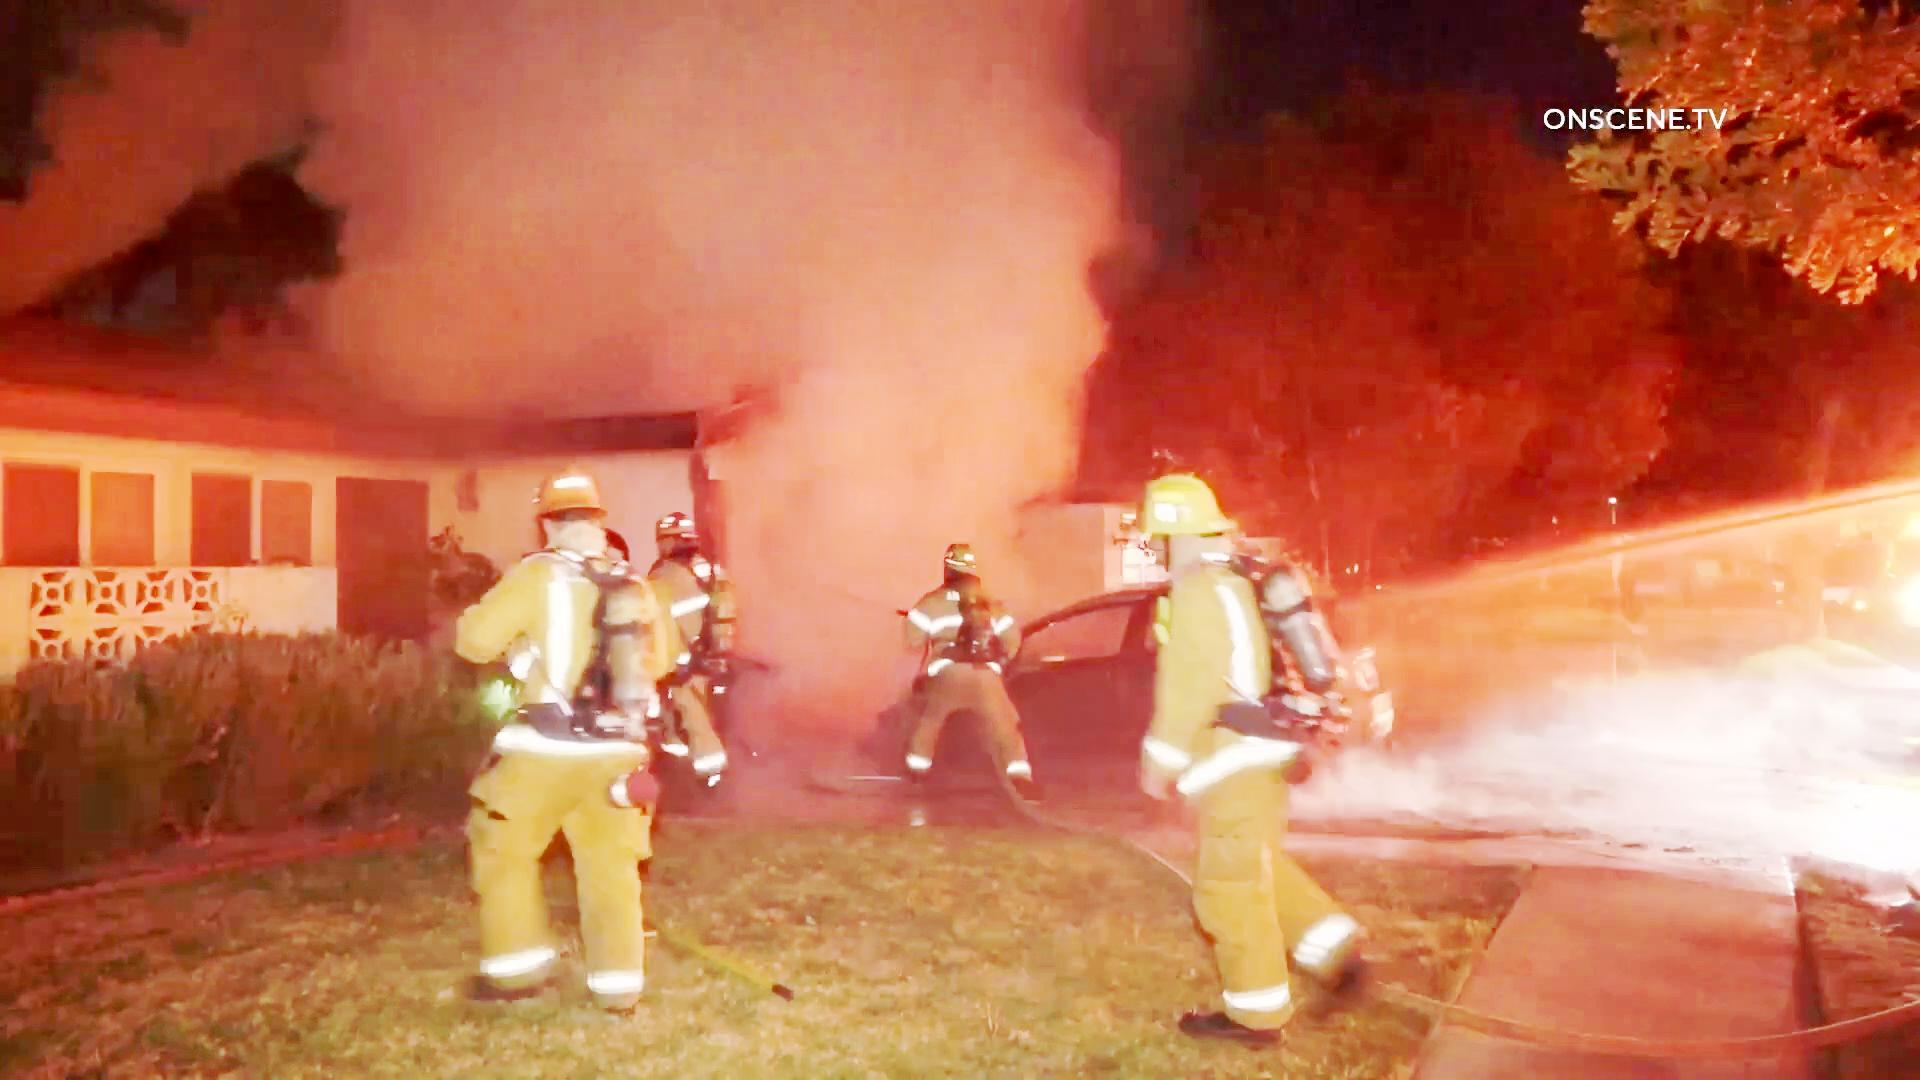smoke: (8, 3, 1519, 394), (708, 401, 880, 790)
